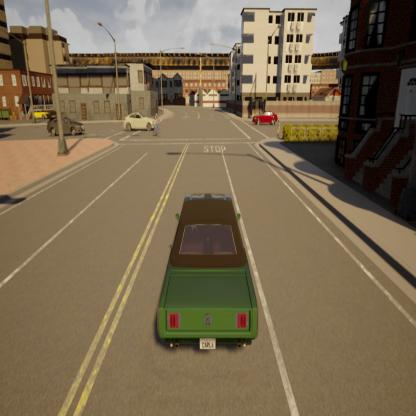Cars: (151, 183, 267, 362), (46, 113, 87, 140), (119, 108, 157, 133), (249, 107, 279, 126), (33, 105, 48, 125)
Pedestrian: (272, 110, 282, 137)
